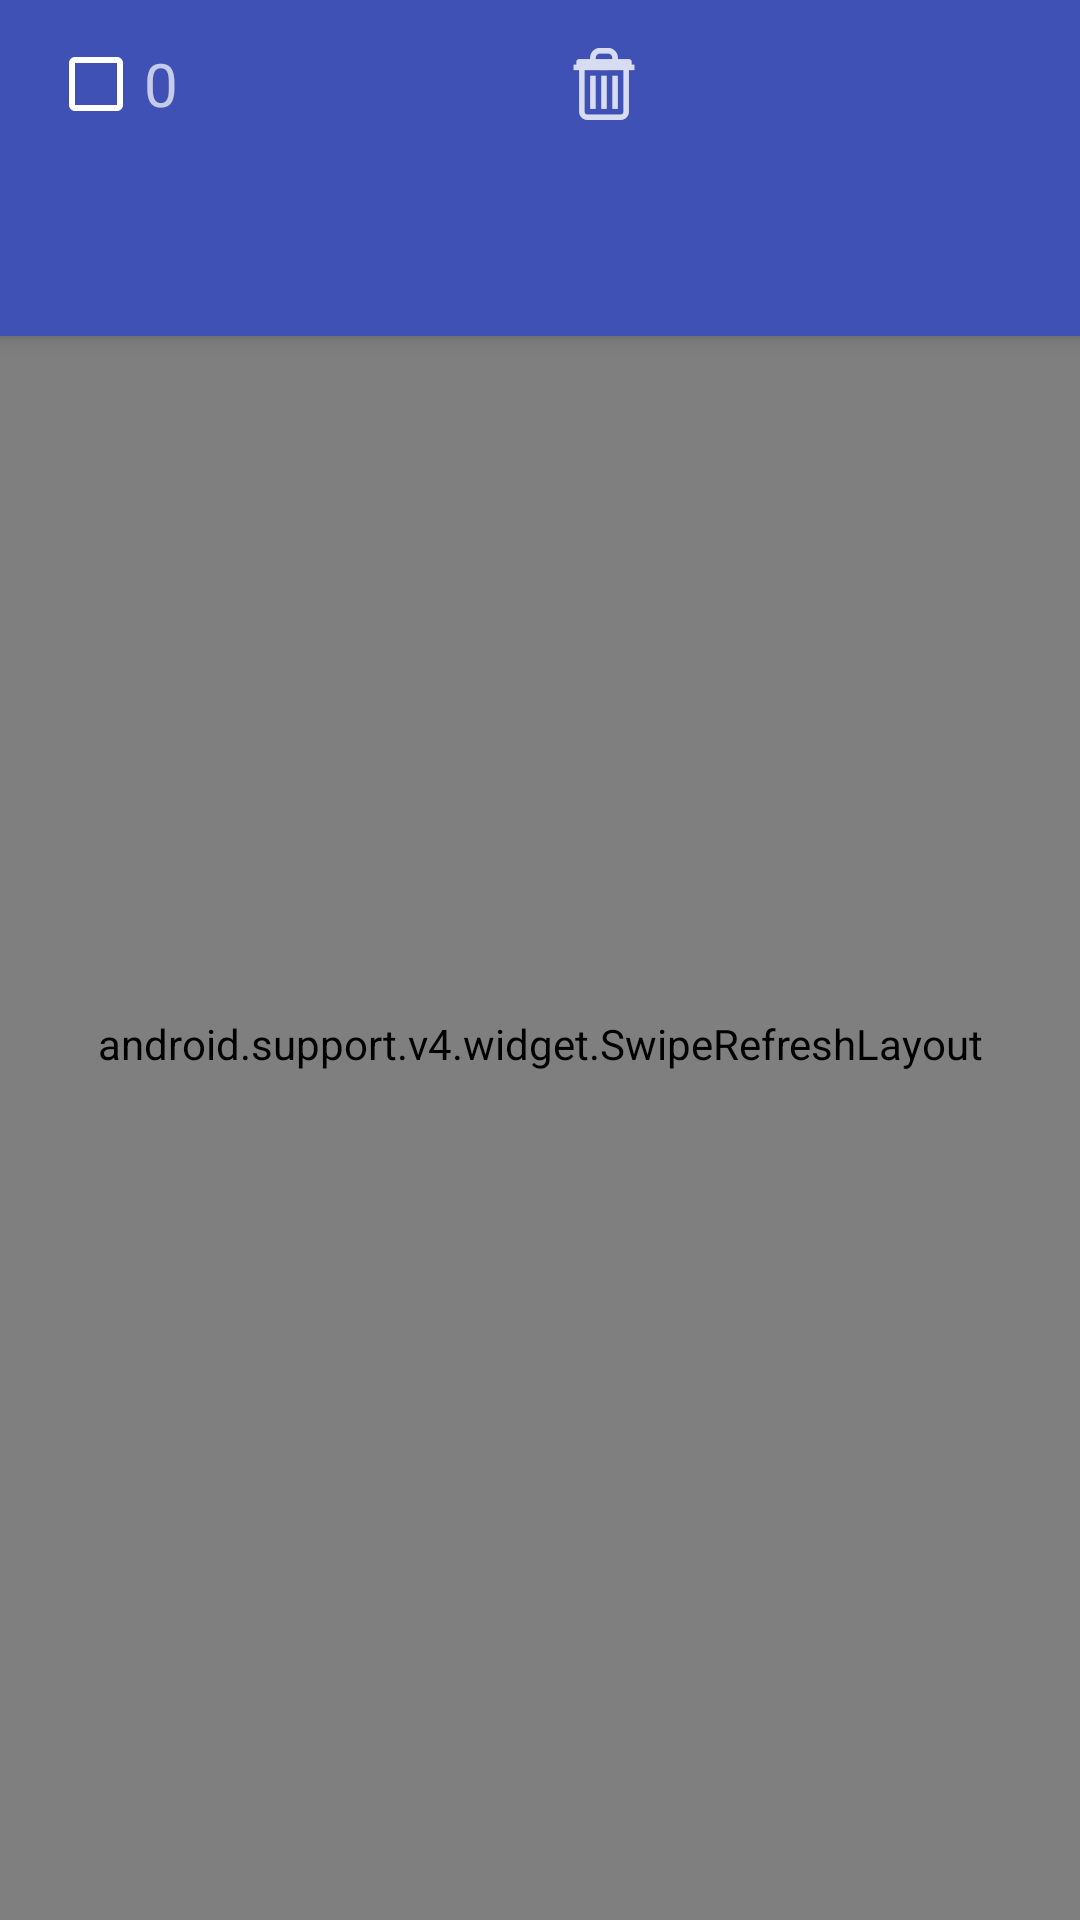

Icon click points for this 1080x1920 phone screenshot, format (x,y):
delete: (604,84)
